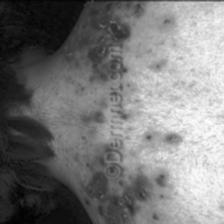Non-Cancerous Skin Condition: (99, 0, 142, 38), (107, 190, 146, 224), (145, 121, 183, 153), (63, 46, 89, 70), (83, 172, 99, 204), (86, 106, 98, 126)
